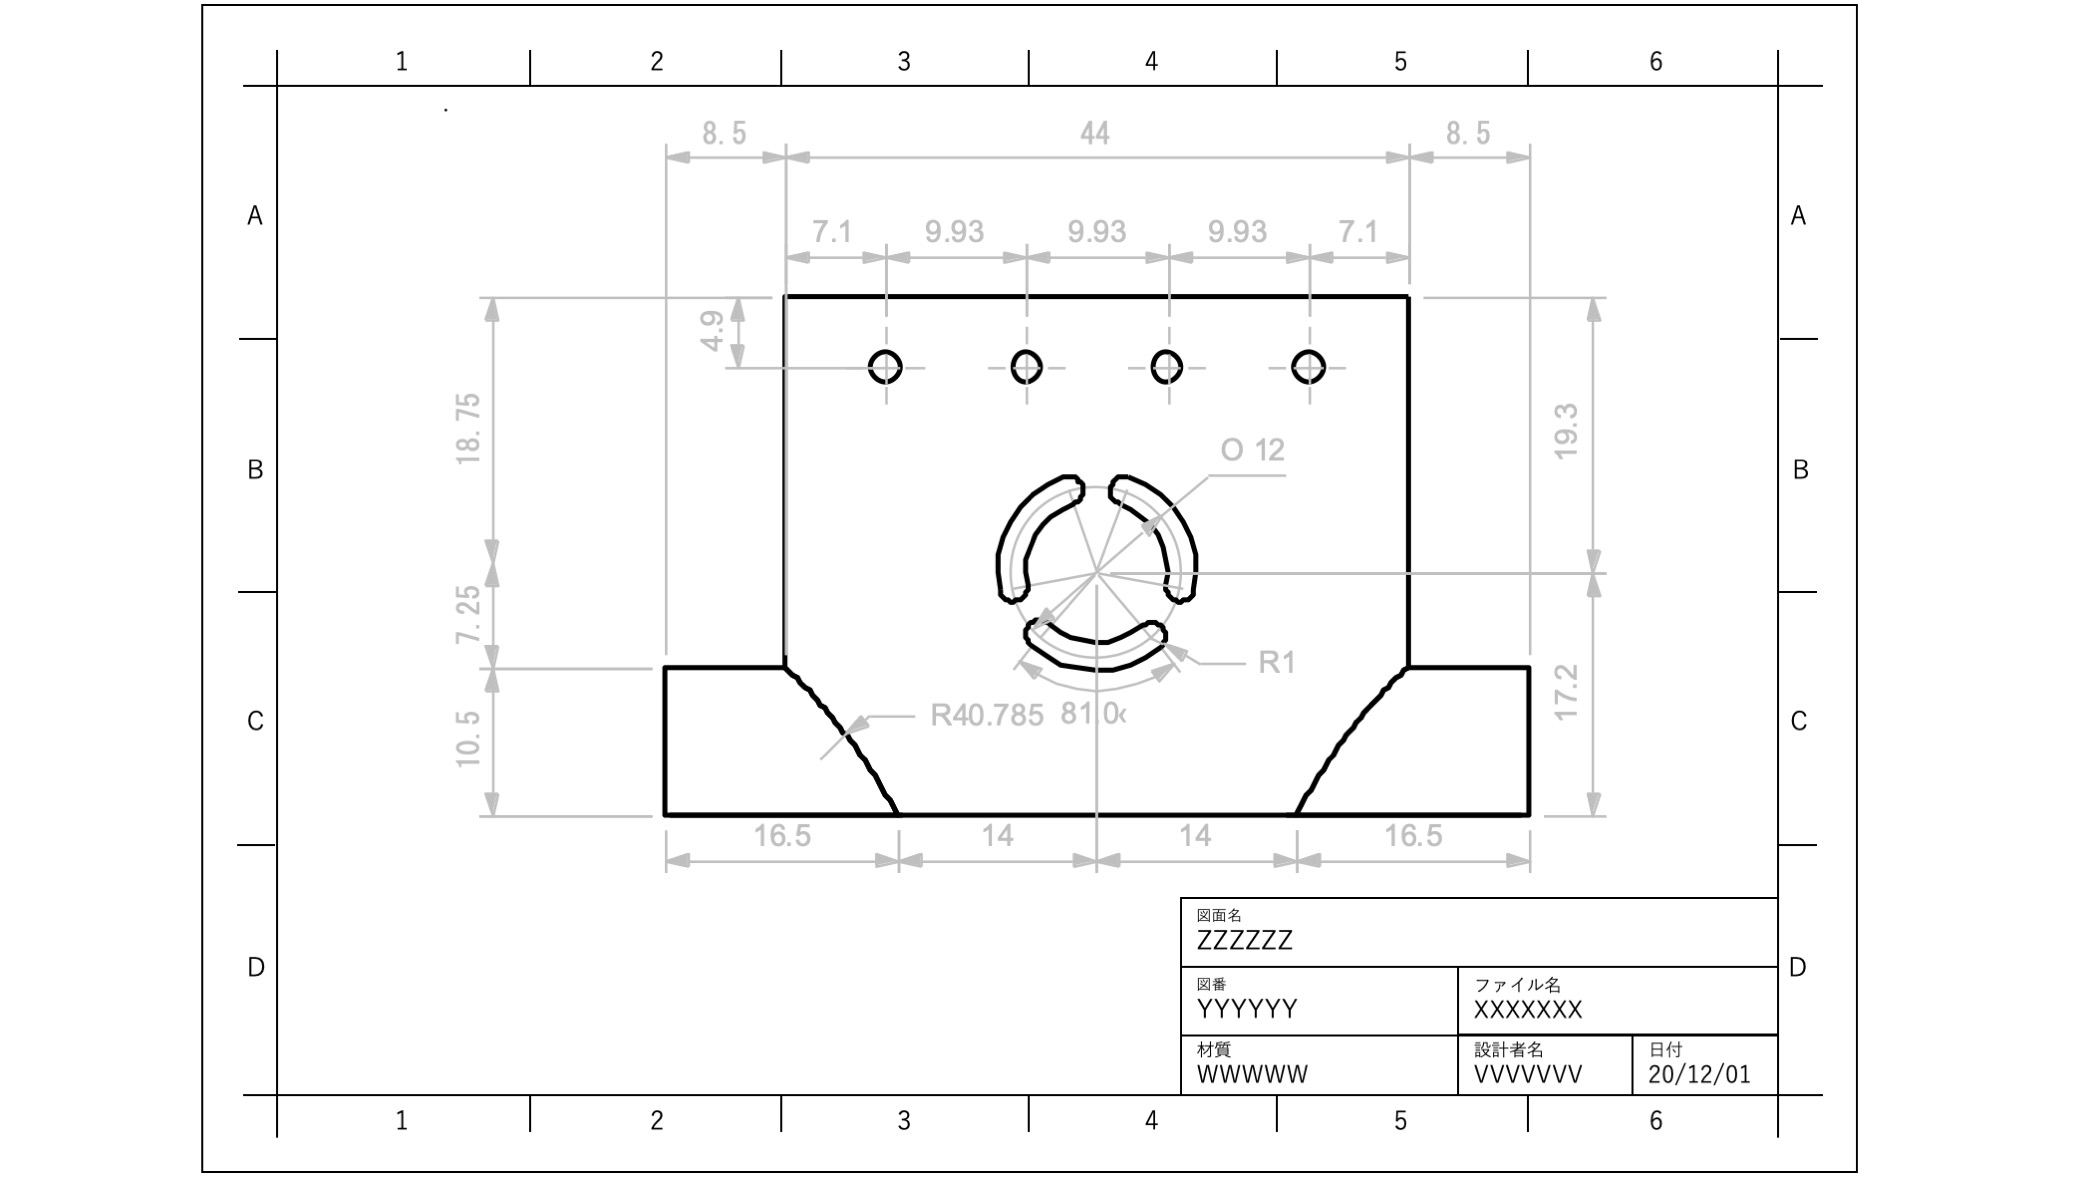circle: (1138, 340, 1191, 389), (1284, 340, 1330, 391), (1007, 343, 1050, 392), (865, 339, 901, 389)
round_rectangle: (1100, 457, 1201, 610), (991, 463, 1087, 610), (1021, 614, 1180, 678)
